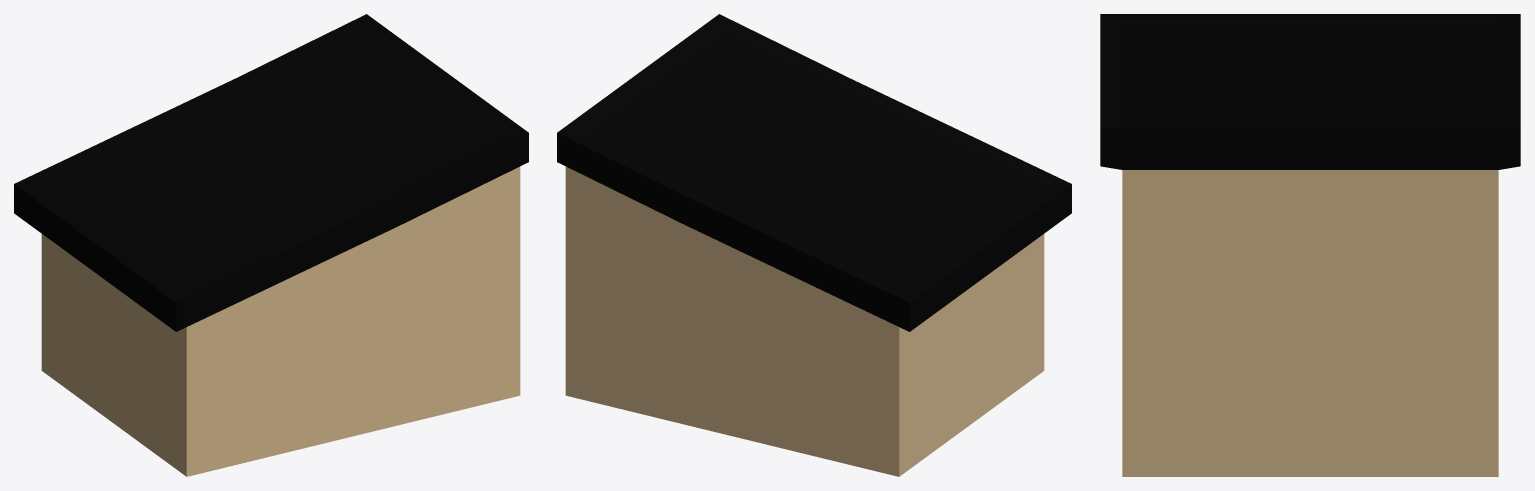
Rendered from house.fbx.
3 views of the same model, side by side, from view 1: azimuth 30°, elevation 25°; view 2: azimuth 150°, elevation 25°; view 3: azimuth 270°, elevation 25° (orthographic). The views are drawn at different scales.
Visible parts, largest first — view 1: Obj_House1; view 2: Obj_House1; view 3: Obj_House1.
Part boxes in pixels (box(x1,y1,x2,y2)): Obj_House1: box(14, 14, 528, 476); Obj_House1: box(557, 14, 1071, 476); Obj_House1: box(1100, 14, 1520, 476).
Bounding box in the file's own units: 701 × 511 × 559.
